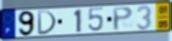1: (73, 8, 83, 34)
3: (136, 3, 154, 32)
5: (87, 7, 105, 34)
9: (17, 10, 37, 37)
D: (36, 10, 58, 36)
P: (112, 6, 135, 32)
